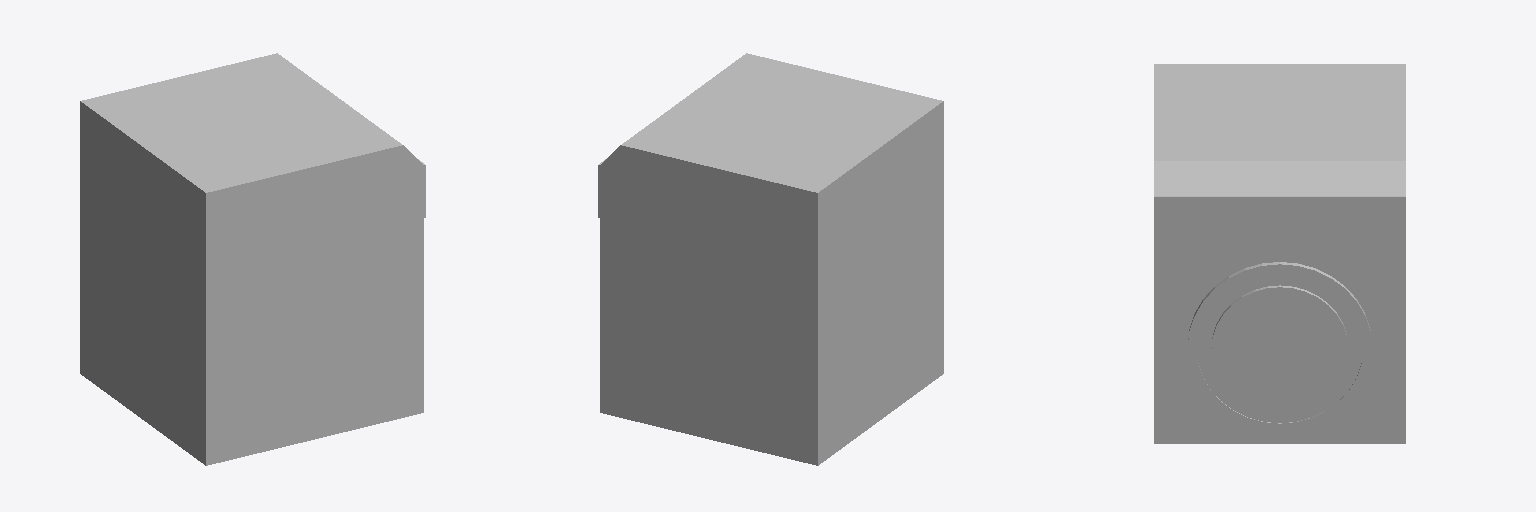
The model's file is washing-machine.obj.
3 renders of one model, left to right at view 1: azimuth 30°, elevation 25°; view 2: azimuth 150°, elevation 25°; view 3: azimuth 270°, elevation 25°, orthographic.
Parts seen in each view (by area): view 1: Cube_Cube.001; view 2: Cube_Cube.001; view 3: Cube_Cube.001.
Part boxes in pixels (left/top/right/bottom): Cube_Cube.001: left=80, top=53, right=425, bottom=465; Cube_Cube.001: left=598, top=53, right=943, bottom=465; Cube_Cube.001: left=1154, top=64, right=1405, bottom=443.
Bounding box in the file's own units: 2.07 × 2.39 × 2.